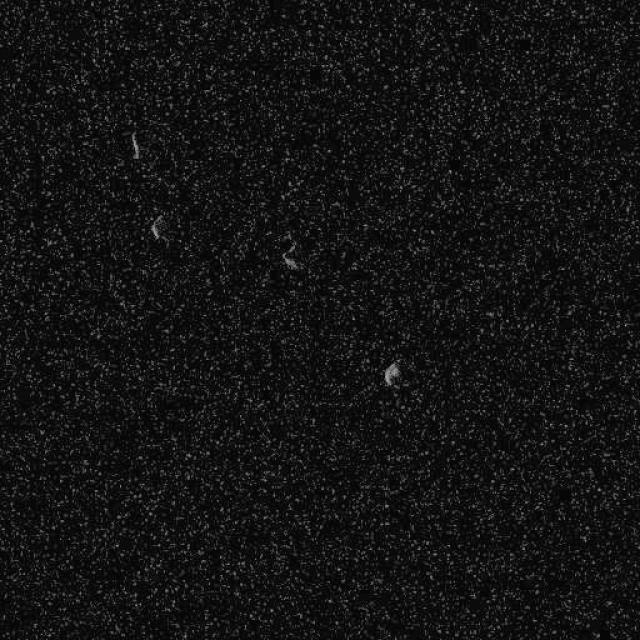D2: (280, 238, 302, 272), (382, 360, 402, 388), (148, 214, 168, 242), (129, 130, 140, 160)
